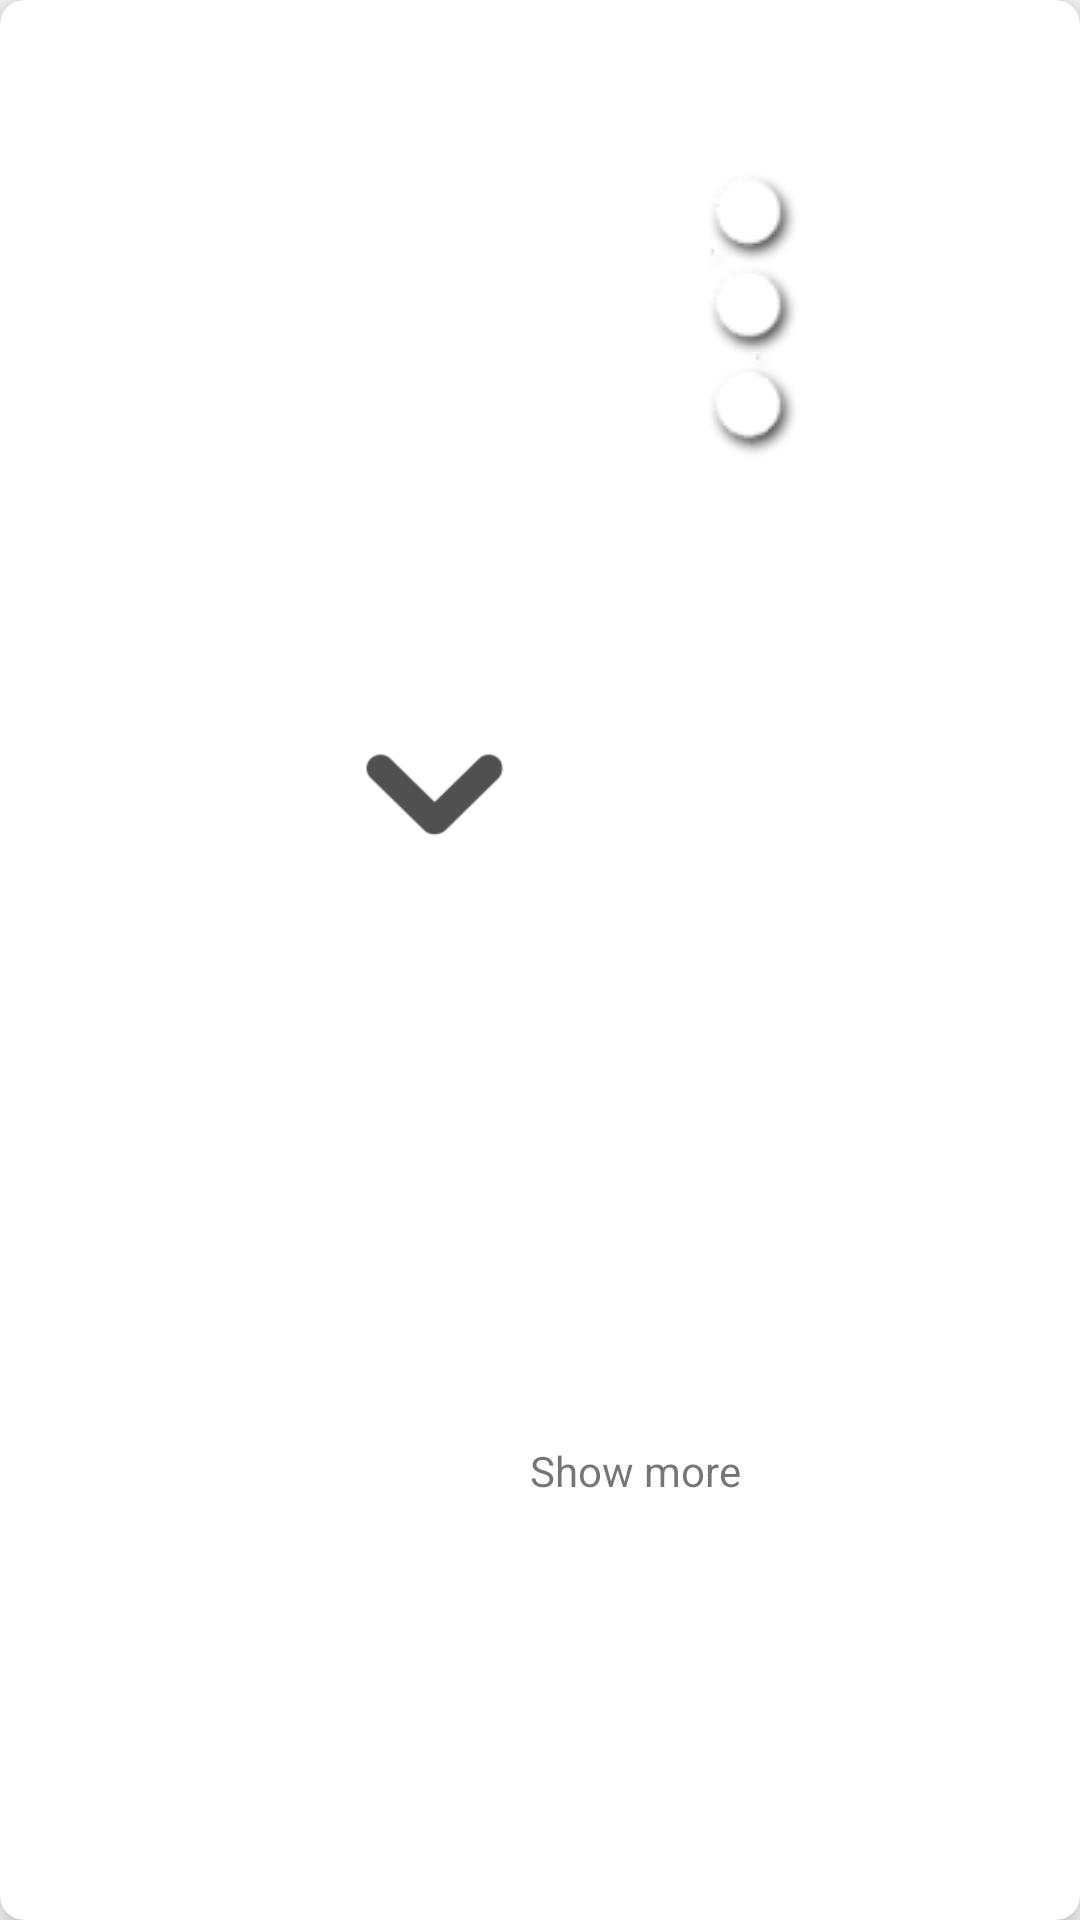

Point at icon controls on the screen. Image size 1080px x 1920px, points as point (x, y).
arrow: point (434, 794)
